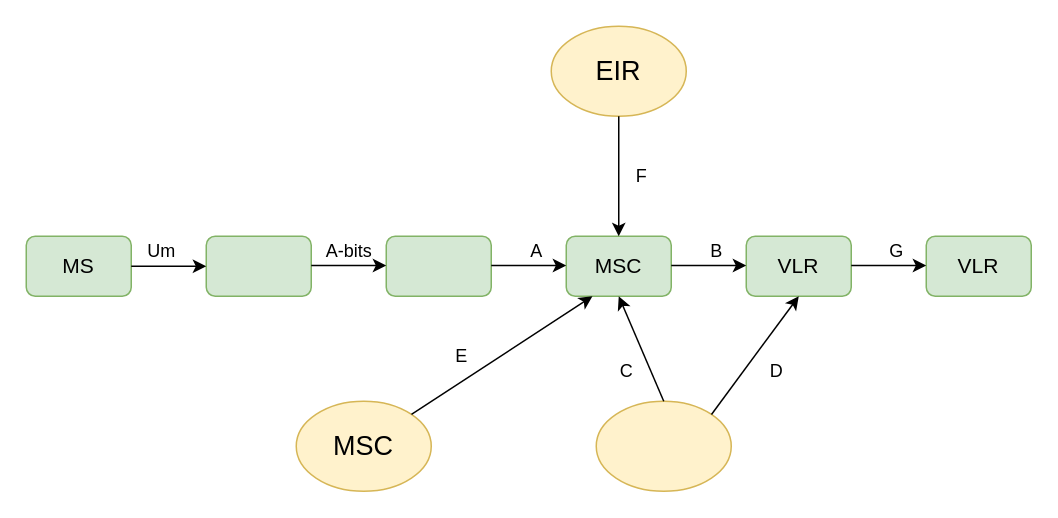
The diagram is 1058 pixels wide and 518 high, and some of its shapes have lost their labels. The centre of each missing label's shape, as x and y in pixels:
BSC: the point at 438,265
BTS: the point at 258,265
HLR: the point at 663,445
